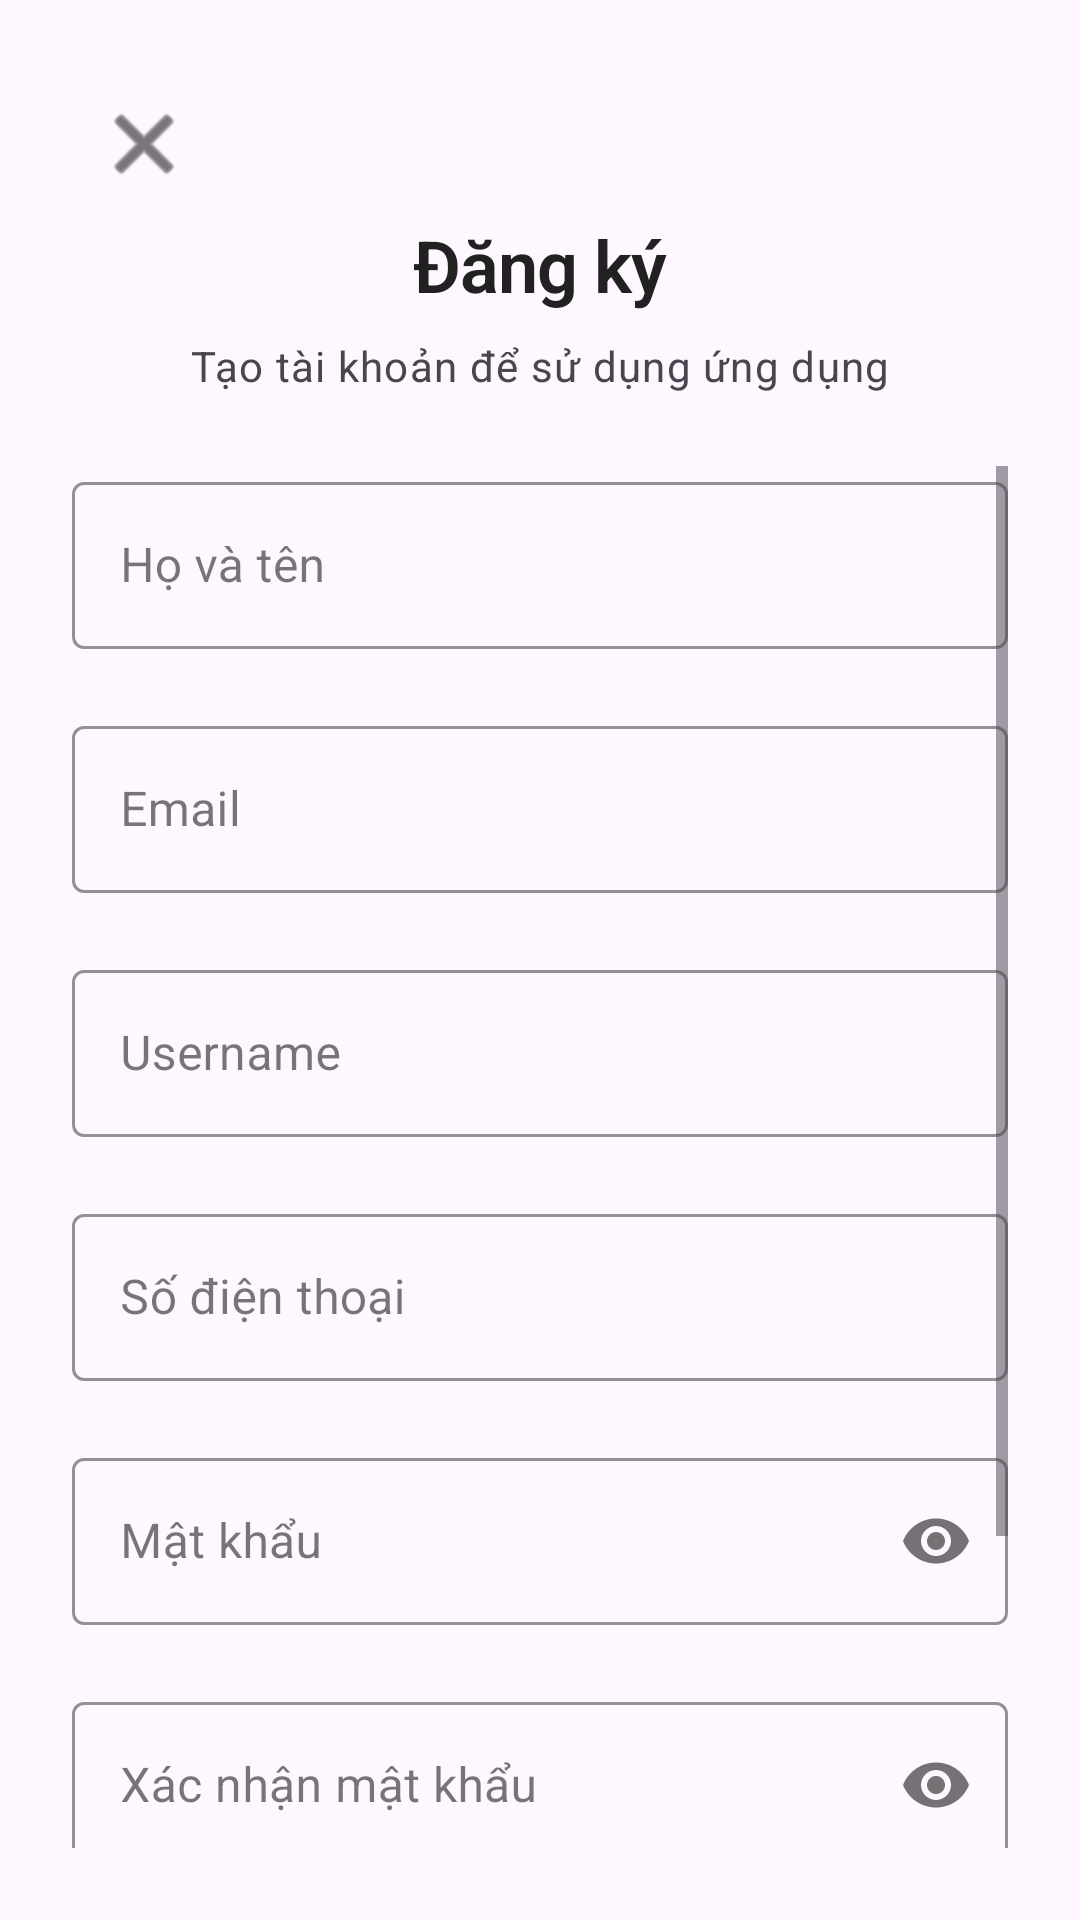

Where icons sit on this 1080 x 1920 app screen, as (x1, y1, x2, y2):
Hủy: (114, 114, 174, 174)
